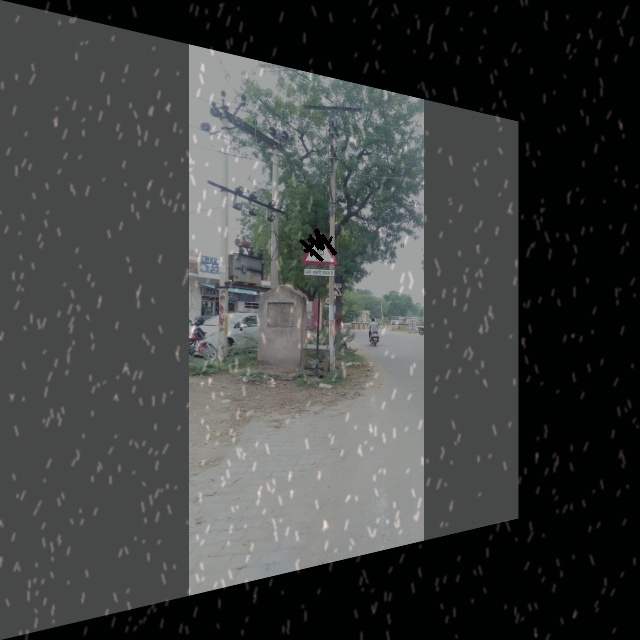Narrow_Road_Ahead: (301, 229, 336, 265)
